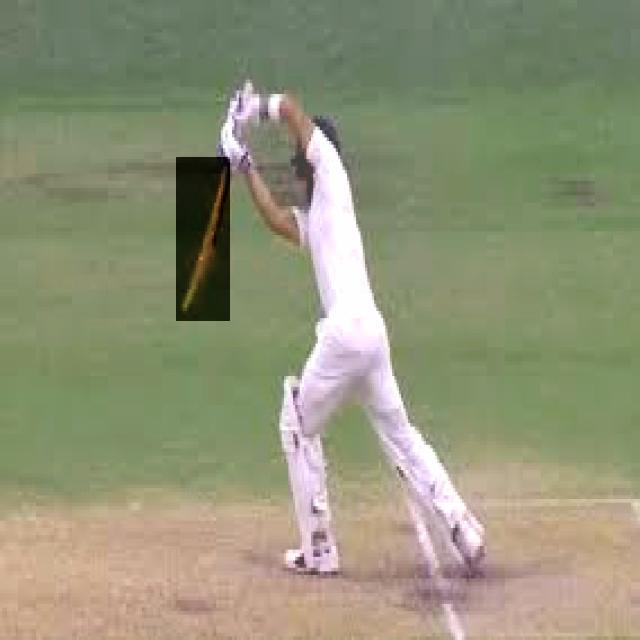bat: (178, 154, 228, 320)
